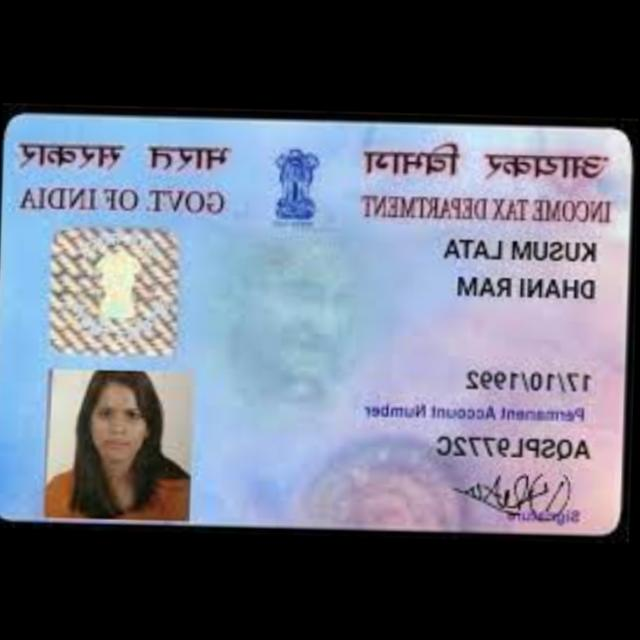pan: (0, 107, 638, 541)
